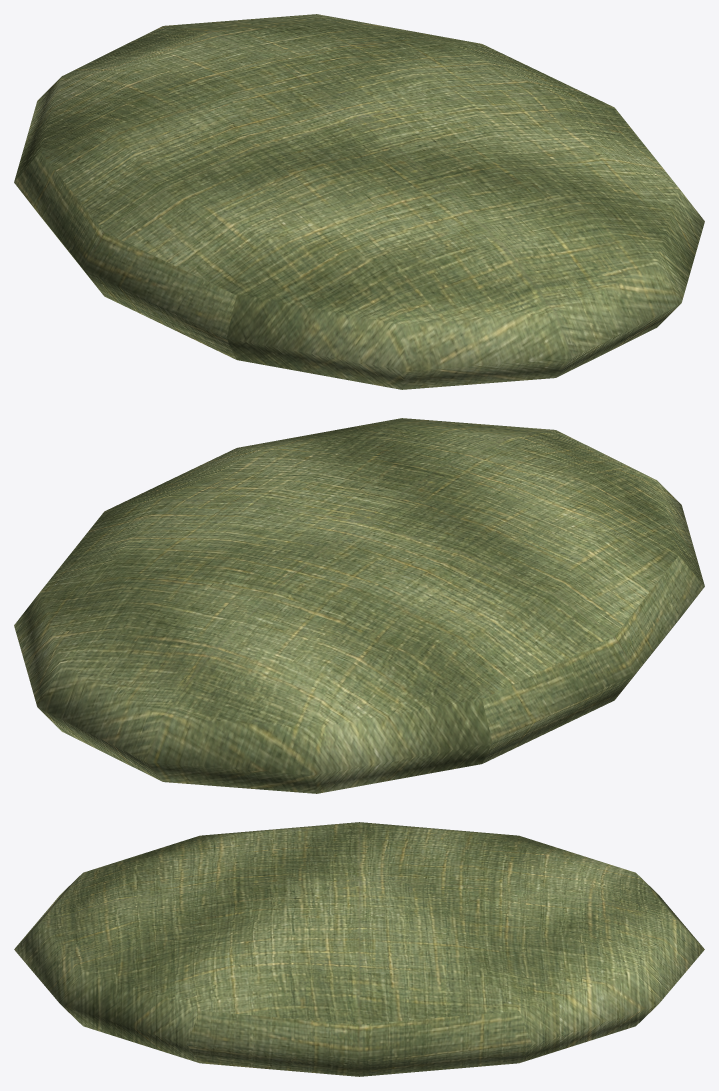
File: SM_HH_Q2_Pillow.fbx
3 renders of one model, top to bottom at view 1: azimuth 30°, elevation 25°; view 2: azimuth 150°, elevation 25°; view 3: azimuth 270°, elevation 25°, orthographic. The views are drawn at different scales.
Visible parts, largest first — view 1: HH_Q2_Pillow; view 2: HH_Q2_Pillow; view 3: HH_Q2_Pillow.
Boxes of the visible parts, bbox=[...] form: HH_Q2_Pillow: bbox=[14, 14, 704, 389]; HH_Q2_Pillow: bbox=[14, 418, 704, 793]; HH_Q2_Pillow: bbox=[14, 822, 704, 1076].
Bounding box in the file's own units: 0.6392 × 0.4794 × 0.1398.
